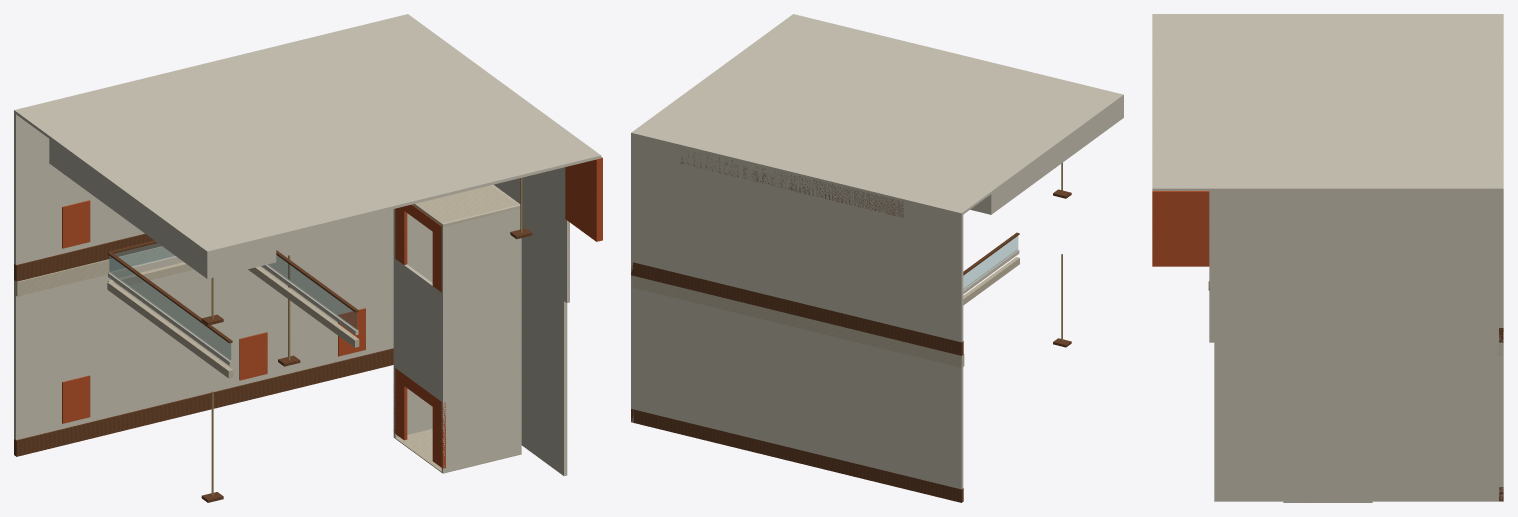
The model's file is AST-RTL-009.glb.
The picture shows the model from 3 angles, left to right: view 1: azimuth 30°, elevation 25°; view 2: azimuth 150°, elevation 25°; view 3: azimuth 270°, elevation 25°; orthographic projection. The views are drawn at different scales.
Parts seen in each view (by area): view 1: EX_HighRoof, EX_NorthWall_52.5, EX_LiftSide_-239.46, EX_EastLowerWall, EX_NorthWall_61, EX_NorthDado_52.5, EX_WestSoffit, EX_EastUpperWall, EX_LiftFrontBetween, EX_LiftSide_-243.66, EX_UpperPortalHeader, EX_LiftCap (+20 smaller); view 2: EX_HighRoof, EX_NorthWall_61, EX_NorthWall_52.5, EX_NorthDado_52.5, EX_NorthDado_61, EX_NorthJoint, EX_WestSoffit, EX_NorthSoffit, EX_GalleryGlass_1, EX_GalleryFascia_1; view 3: EX_HighRoof, EX_EastLowerWall, EX_EastUpperWall, EX_UpperPortalHeader, EX_NorthWall_61, EX_NorthWall_52.5.
Boxes of the visible parts, box(x1,y1,x2,y2) form: EX_HighRoof: box(14, 14, 601, 254); EX_NorthWall_52.5: box(14, 209, 393, 440); EX_LiftSide_-239.46: box(441, 204, 521, 473); EX_EastLowerWall: box(521, 270, 567, 476); EX_NorthWall_61: box(14, 113, 144, 264); EX_NorthDado_52.5: box(14, 348, 393, 456); EX_WestSoffit: box(49, 139, 276, 278); EX_EastUpperWall: box(494, 167, 569, 302); EX_LiftFrontBetween: box(393, 259, 445, 401); EX_LiftSide_-243.66: box(393, 208, 432, 438); EX_UpperPortalHeader: box(565, 157, 602, 241); EX_LiftCap: box(412, 185, 520, 226); EX_HighRoof: box(631, 14, 1123, 215); EX_NorthWall_61: box(631, 135, 963, 342); EX_NorthWall_52.5: box(631, 287, 963, 489); EX_NorthDado_52.5: box(631, 409, 963, 502); EX_NorthDado_61: box(631, 262, 963, 355); EX_NorthJoint: box(631, 275, 964, 367); EX_WestSoffit: box(970, 97, 1123, 214); EX_NorthSoffit: box(680, 154, 903, 217); EX_GalleryGlass_1: box(963, 236, 1018, 289); EX_GalleryFascia_1: box(963, 257, 1019, 305); EX_HighRoof: box(1152, 14, 1503, 190); EX_EastLowerWall: box(1214, 342, 1503, 501); EX_EastUpperWall: box(1209, 191, 1503, 342); EX_UpperPortalHeader: box(1152, 191, 1209, 266); EX_NorthWall_61: box(1500, 191, 1503, 327); EX_NorthWall_52.5: box(1500, 356, 1503, 487).
Size of the model in its own units: 20.08 by 16.98 by 17.
9 materials, 7 textured.
